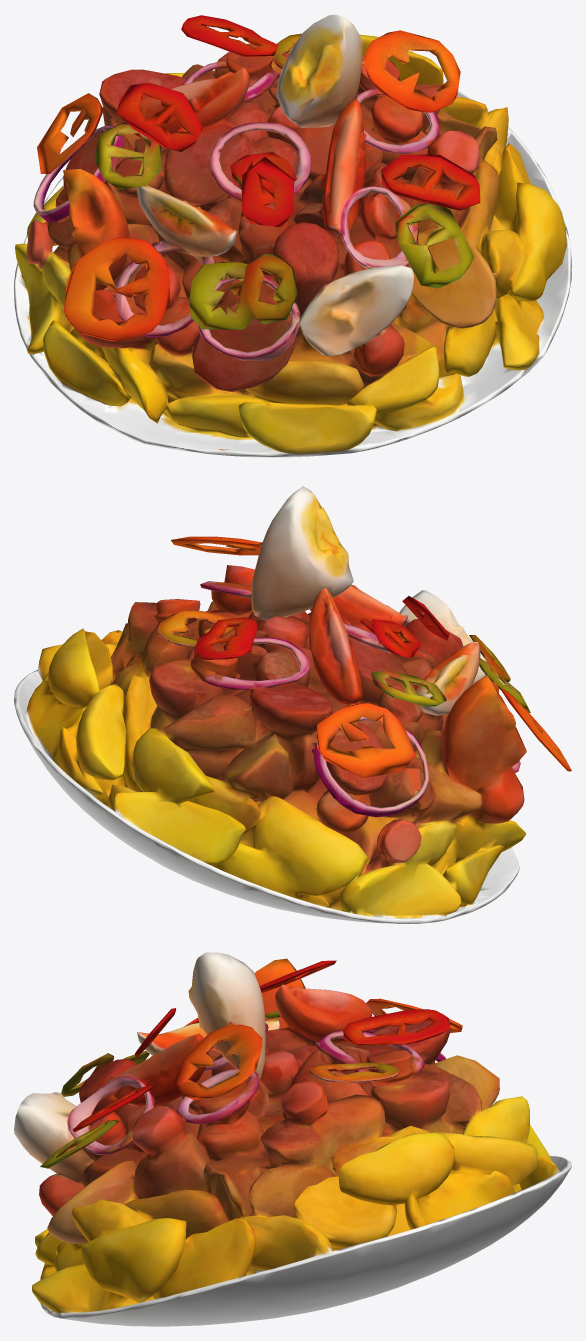
The model's file is piqueModel.glb.
3 renders of one model, top to bottom at view 1: azimuth 30°, elevation 25°; view 2: azimuth 150°, elevation 25°; view 3: azimuth 270°, elevation 25°, orthographic. The views are drawn at different scales.
Visible parts, largest first — view 1: tripo_node_0bd5082f-d3d4-4552-94ae-00ef1829ac47; view 2: tripo_node_0bd5082f-d3d4-4552-94ae-00ef1829ac47; view 3: tripo_node_0bd5082f-d3d4-4552-94ae-00ef1829ac47.
Part boxes in pixels (<box>): tripo_node_0bd5082f-d3d4-4552-94ae-00ef1829ac47: <box>14,14,571,457</box>; tripo_node_0bd5082f-d3d4-4552-94ae-00ef1829ac47: <box>14,486,571,923</box>; tripo_node_0bd5082f-d3d4-4552-94ae-00ef1829ac47: <box>14,952,571,1326</box>.
Bounding box in the file's own units: 0.9797 × 0.6903 × 0.9659.
1 material, 1 textured.
